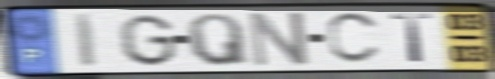C: (325, 11, 383, 67)
G: (116, 13, 180, 68)
I: (73, 12, 99, 70)
N: (246, 9, 311, 69)
Q: (184, 11, 252, 68)
T: (387, 11, 437, 64)
